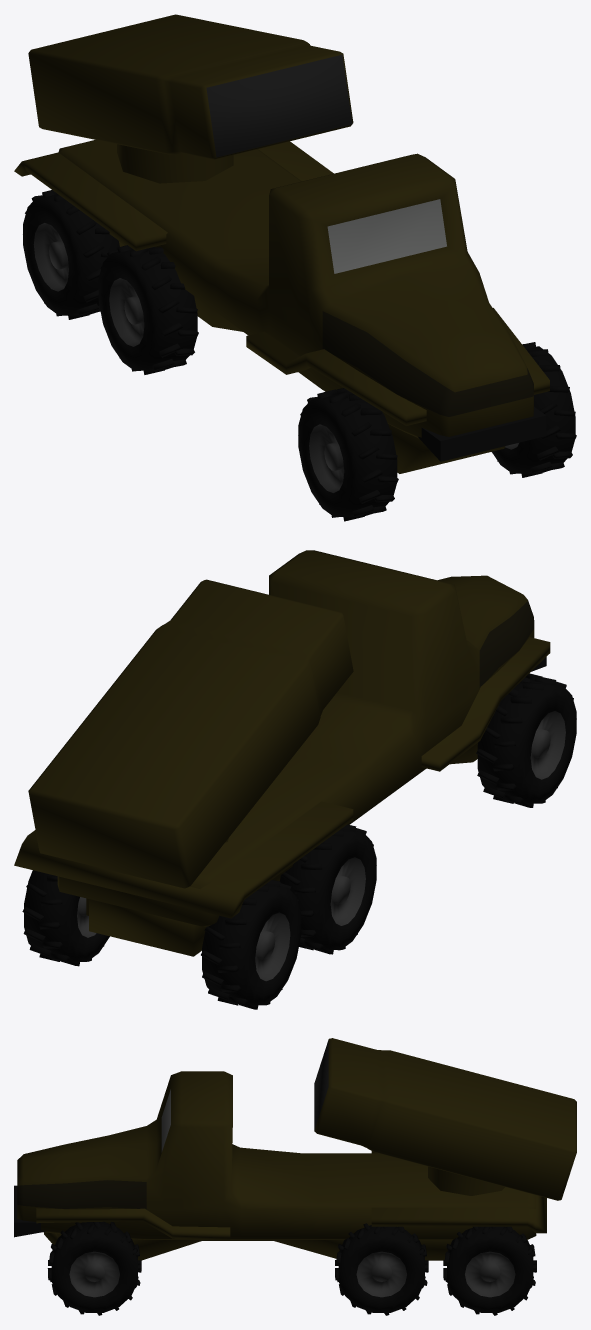
The model's file is katyusha.fbx.
The picture shows the model from 3 angles, top to bottom: view 1: azimuth 30°, elevation 25°; view 2: azimuth 150°, elevation 25°; view 3: azimuth 270°, elevation 25°; orthographic projection. The views are drawn at different scales.
Parts seen in each view (by area): view 1: katyusha, katyusha_turret; view 2: katyusha, katyusha_turret; view 3: katyusha, katyusha_turret.
Part boxes in pixels (<box>): katyusha: <box>14,140,576,521</box>; katyusha_turret: <box>28,14,353,183</box>; katyusha: <box>14,550,576,1009</box>; katyusha_turret: <box>28,579,353,888</box>; katyusha: <box>14,1071,546,1315</box>; katyusha_turret: <box>314,1038,576,1200</box>.
Size of the model in its own units: 675 by 883 by 2079.
